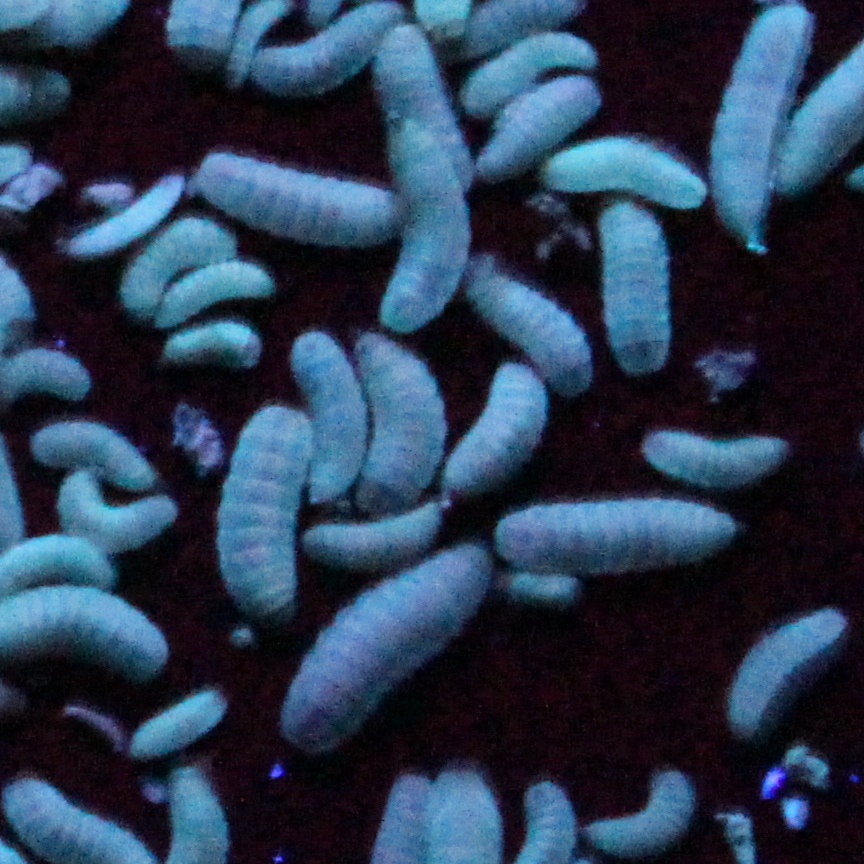larve: (287, 540, 481, 746), (456, 254, 595, 395), (207, 146, 403, 242), (217, 405, 303, 621), (501, 495, 740, 568), (356, 332, 444, 521), (718, 3, 787, 238), (383, 127, 462, 331), (438, 360, 548, 499), (589, 203, 675, 376), (732, 609, 846, 734), (373, 25, 466, 176), (475, 80, 599, 185), (285, 336, 362, 499), (250, 13, 399, 91), (293, 493, 452, 566), (526, 140, 717, 199), (54, 466, 185, 546), (118, 229, 244, 307), (473, 31, 595, 111), (32, 417, 156, 491), (590, 769, 697, 849), (636, 431, 793, 482), (71, 176, 169, 256), (160, 262, 275, 319), (131, 687, 216, 754)
